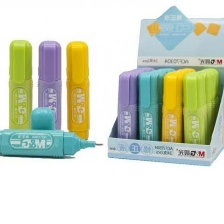book: (103, 1, 223, 168)
correction_fluid: (0, 127, 105, 161), (63, 37, 94, 146), (5, 36, 35, 147), (35, 36, 63, 145), (133, 71, 163, 156), (180, 70, 209, 157), (159, 70, 188, 153), (115, 69, 140, 153)
